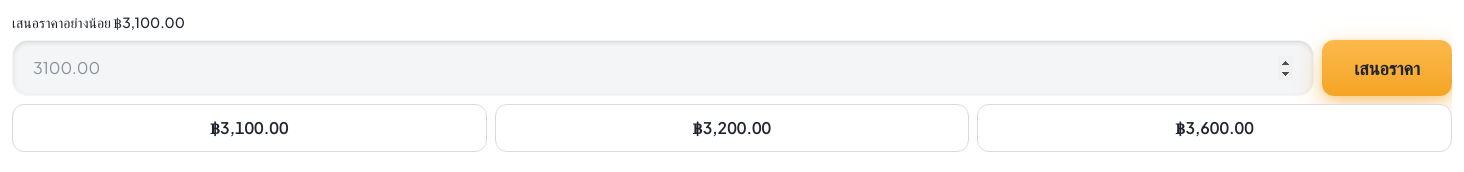
PlaceBidControl › the quick amounts › fills the field rather than bidding, so nobody bids by mis-tapping
Click the button "฿3,200.00".
click(732, 128)  # box [495,104,969,152]
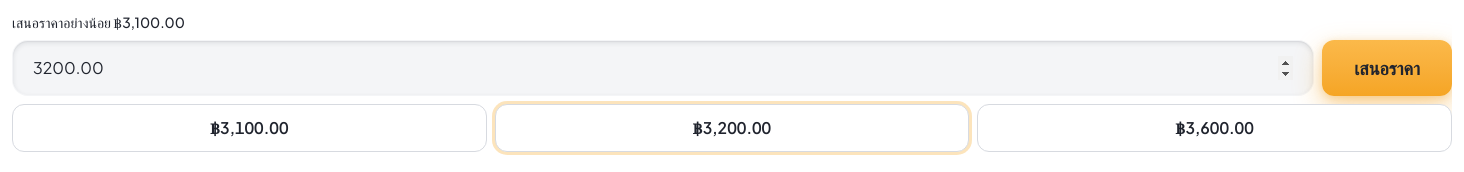
Expected: the number field labelled "เสนอราคาอย่างน้อย ฿3,100.00" holds "3200", [33,56,1293,80]
